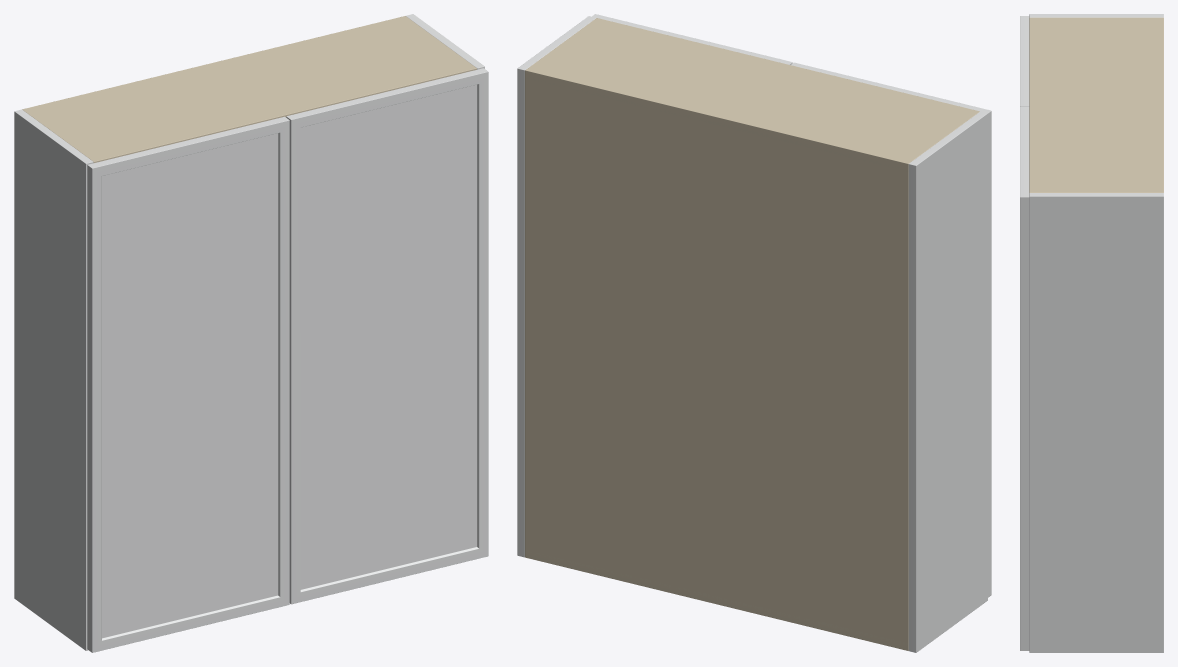
Rendered from oppein-ply-ssw-w3642.glb.
The picture shows the model from 3 angles, left to right: view 1: azimuth 30°, elevation 25°; view 2: azimuth 150°, elevation 25°; view 3: azimuth 270°, elevation 25°; orthographic projection. The views are drawn at different scales.
Parts seen in each view (by area): view 1: Door, Door.001, Cabinet side, Cabinet top; view 2: Cabinet back, Cabinet side, Cabinet top, Cabinet side.001, Door, Cabinet bottom, Door.001; view 3: Cabinet side.001, Cabinet top, Door.001, Door, Cabinet side.
Part boxes in pixels (x1,y1,x2,y2): Door: (87, 116, 289, 652); Door.001: (286, 68, 488, 604); Cabinet side: (14, 109, 93, 650); Cabinet top: (22, 16, 476, 162); Cabinet back: (525, 71, 908, 650); Cabinet side: (908, 111, 987, 652); Cabinet top: (525, 18, 979, 171); Cabinet side.001: (517, 16, 595, 557); Door: (791, 62, 991, 597); Cabinet bottom: (525, 550, 908, 650); Door.001: (592, 14, 792, 64); Cabinet side.001: (1029, 193, 1163, 652); Cabinet top: (1029, 17, 1163, 192); Door.001: (1020, 106, 1029, 650); Door: (1020, 16, 1029, 106); Cabinet side: (1029, 14, 1163, 17).
Size of the model in its own units: 0.9144 by 1.07 by 0.3048.
